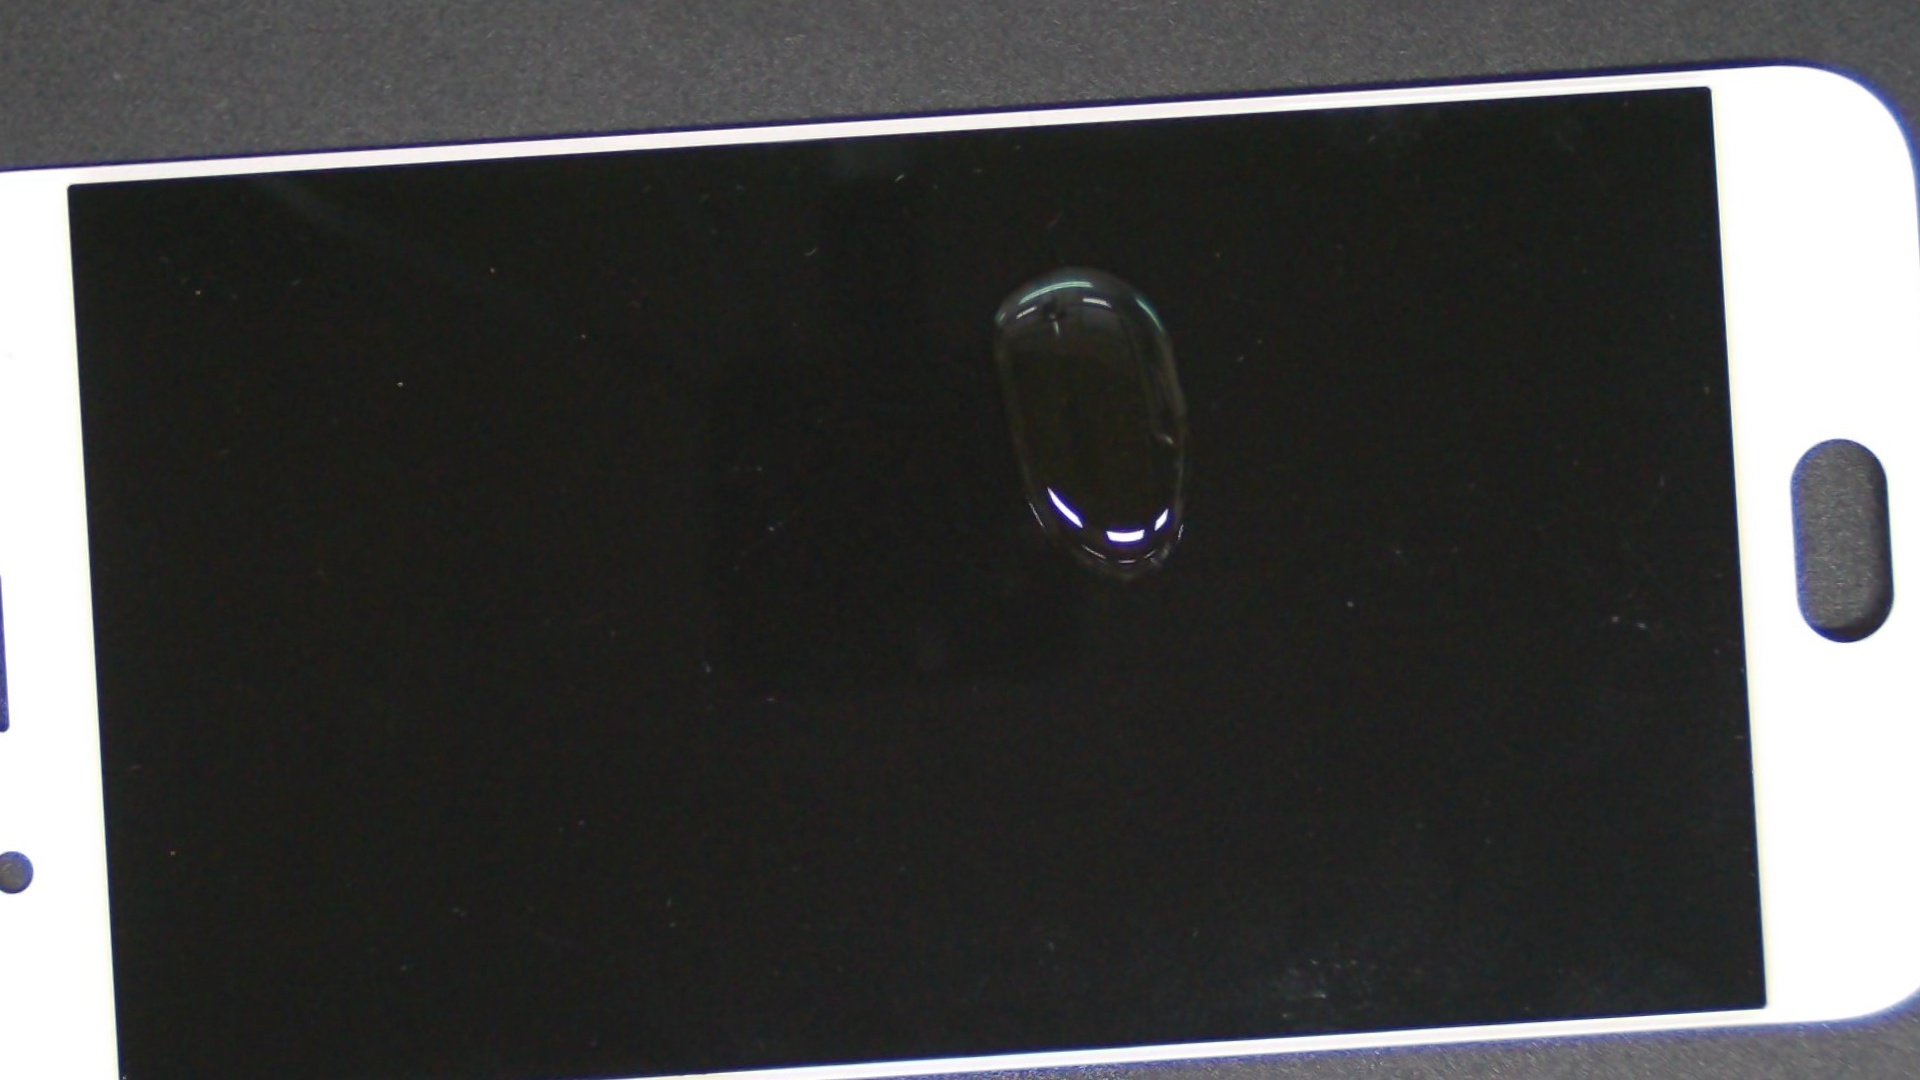oil: (421, 59, 1708, 476)
